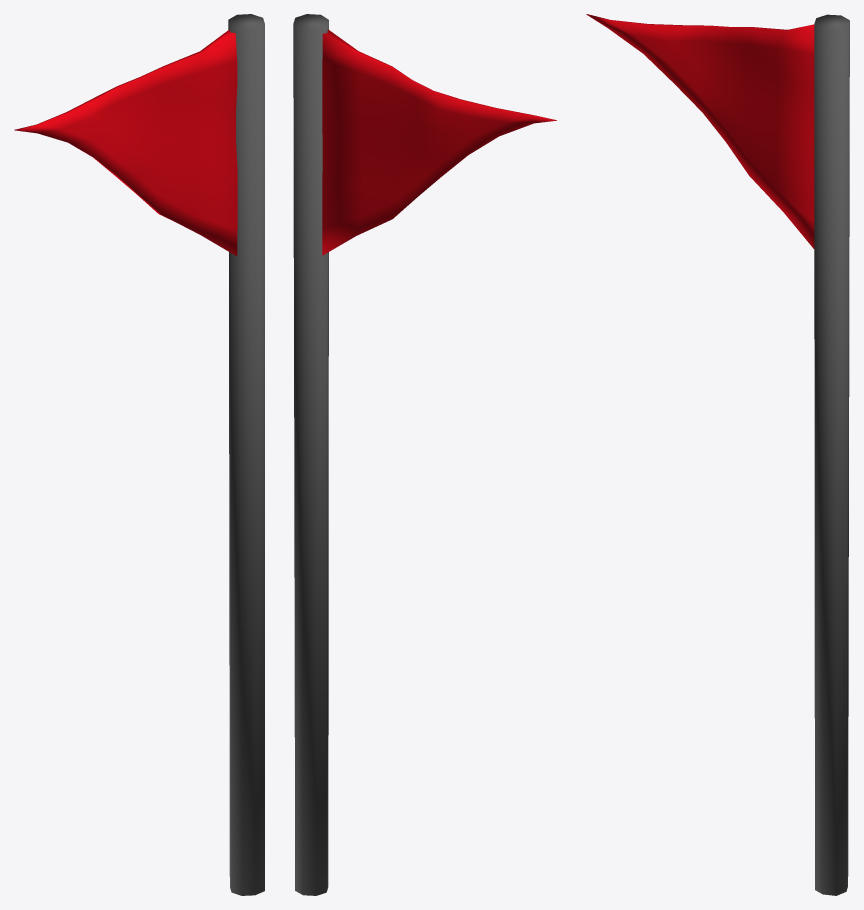
The model's file is flag.fbx.
3 views of the same model, side by side, from view 1: azimuth 30°, elevation 25°; view 2: azimuth 150°, elevation 25°; view 3: azimuth 330°, elevation 25° (orthographic).
Visible parts, largest first — view 1: flag; view 2: flag; view 3: flag.
Part boxes in pixels (x1=…): flag: x1=14, y1=14, x2=264, y2=895; flag: x1=293, y1=14, x2=556, y2=895; flag: x1=586, y1=14, x2=849, y2=895.
Bounding box in the file's own units: 0.3003 × 0.9737 × 0.0389.
